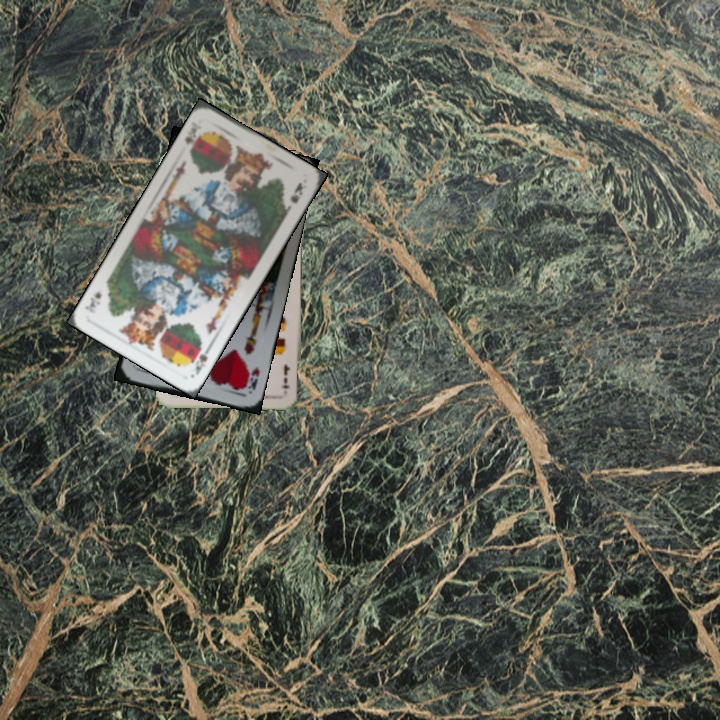E7: (279, 361, 293, 390)
HK: (239, 363, 263, 395)
SK: (188, 341, 214, 377), (181, 124, 204, 148)
